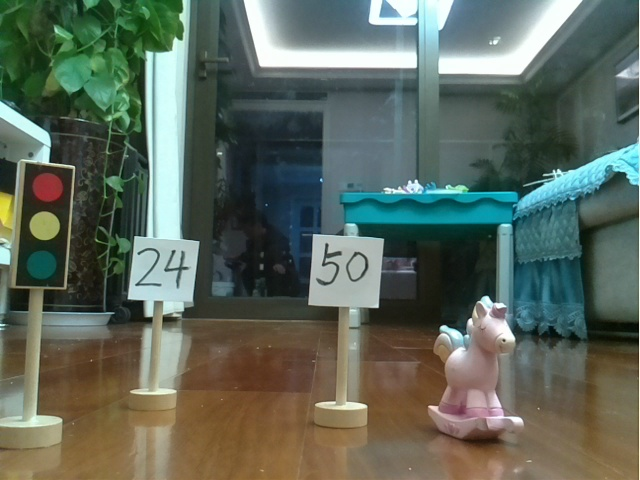Horse: (424, 288, 535, 446)
Red Traffic Light: (3, 154, 79, 456)
Speed Limit 24: (119, 228, 201, 411)
Speed Limit 50: (299, 229, 387, 431)
